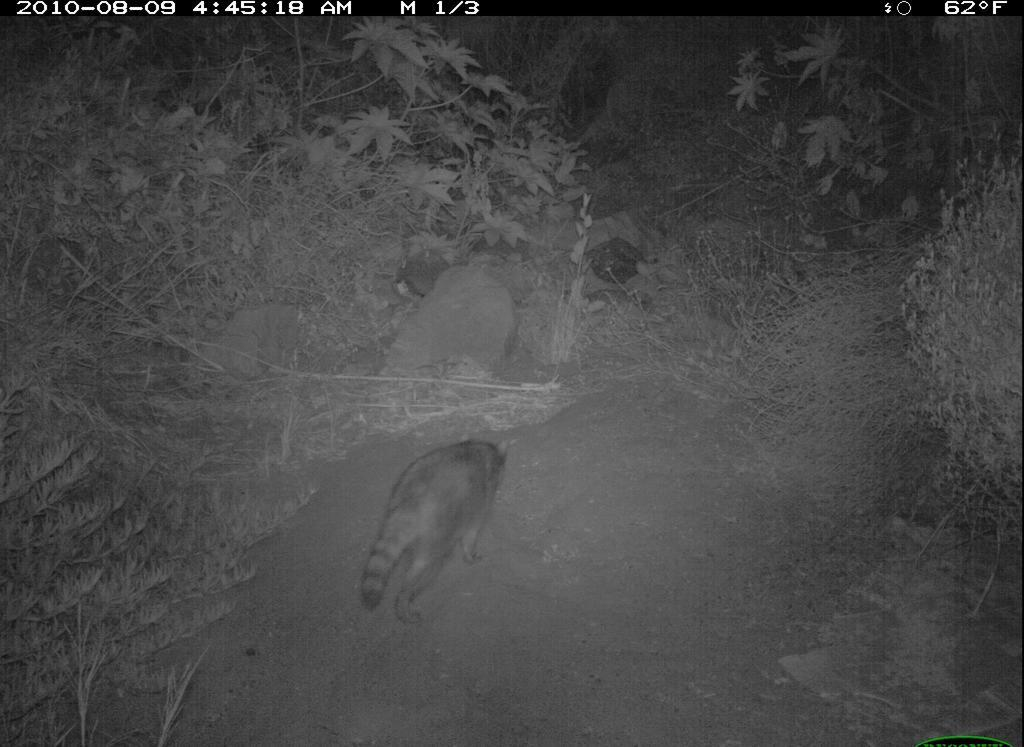raccoon: (346, 417, 552, 634)
